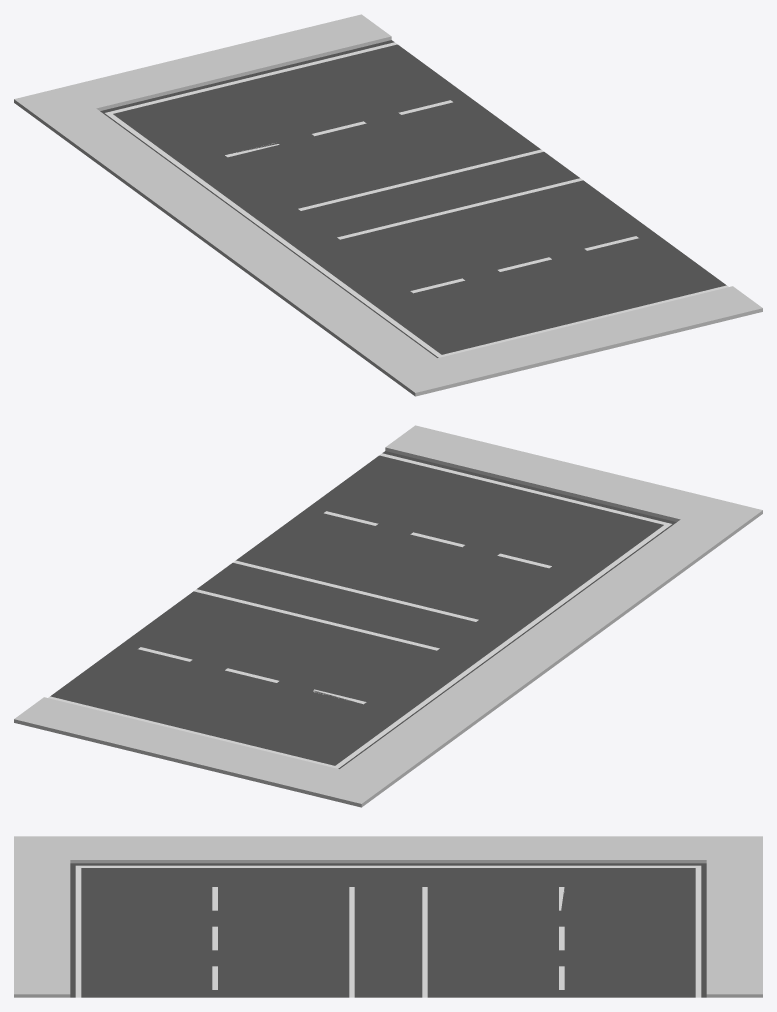
File: SPW_Urban_Road 4way_04.gltf
3 views of the same model, one above another, from view 1: azimuth 30°, elevation 25°; view 2: azimuth 150°, elevation 25°; view 3: azimuth 270°, elevation 25° (orthographic). The views are drawn at different scales.
Visible parts, largest first — view 1: SPW_Urban_Road_4way_04; view 2: SPW_Urban_Road_4way_04; view 3: SPW_Urban_Road_4way_04.
Part boxes in pixels (bbox=[...]): SPW_Urban_Road_4way_04: bbox=[14, 14, 762, 396]; SPW_Urban_Road_4way_04: bbox=[14, 425, 762, 807]; SPW_Urban_Road_4way_04: bbox=[14, 836, 762, 997].
Size of the model in its own units: 787 by 7.87 by 1575.
Materials: 1 (1 with a texture image).
